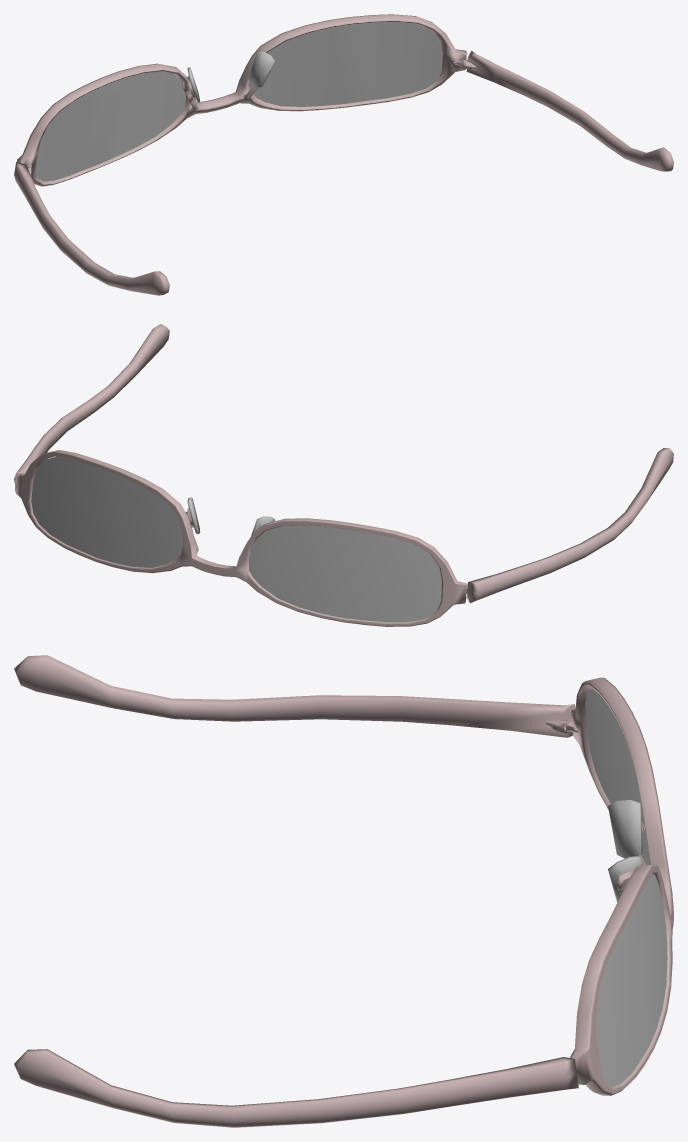
File: kao_megane_01.dae
3 views of the same model, one above another, from view 1: azimuth 30°, elevation 25°; view 2: azimuth 150°, elevation 25°; view 3: azimuth 270°, elevation 25° (orthographic). The views are drawn at different scales.
Visible parts, largest first — view 1: o_glasses_typeF_lens_0, o_glasses_typeF_00_0; view 2: o_glasses_typeF_lens_0, o_glasses_typeF_00_0; view 3: o_glasses_typeF_00_0, o_glasses_typeF_lens_0.
Boxes of the visible parts, bbox=[...] form: o_glasses_typeF_lens_0: bbox=[35, 22, 442, 181]; o_glasses_typeF_00_0: bbox=[14, 14, 673, 295]; o_glasses_typeF_lens_0: bbox=[31, 456, 441, 622]; o_glasses_typeF_00_0: bbox=[14, 324, 673, 626]; o_glasses_typeF_00_0: bbox=[14, 655, 673, 1127]; o_glasses_typeF_lens_0: bbox=[585, 689, 667, 1086].
Size of the model in its own units: 0.21 by 0.1413 by 0.0351.
